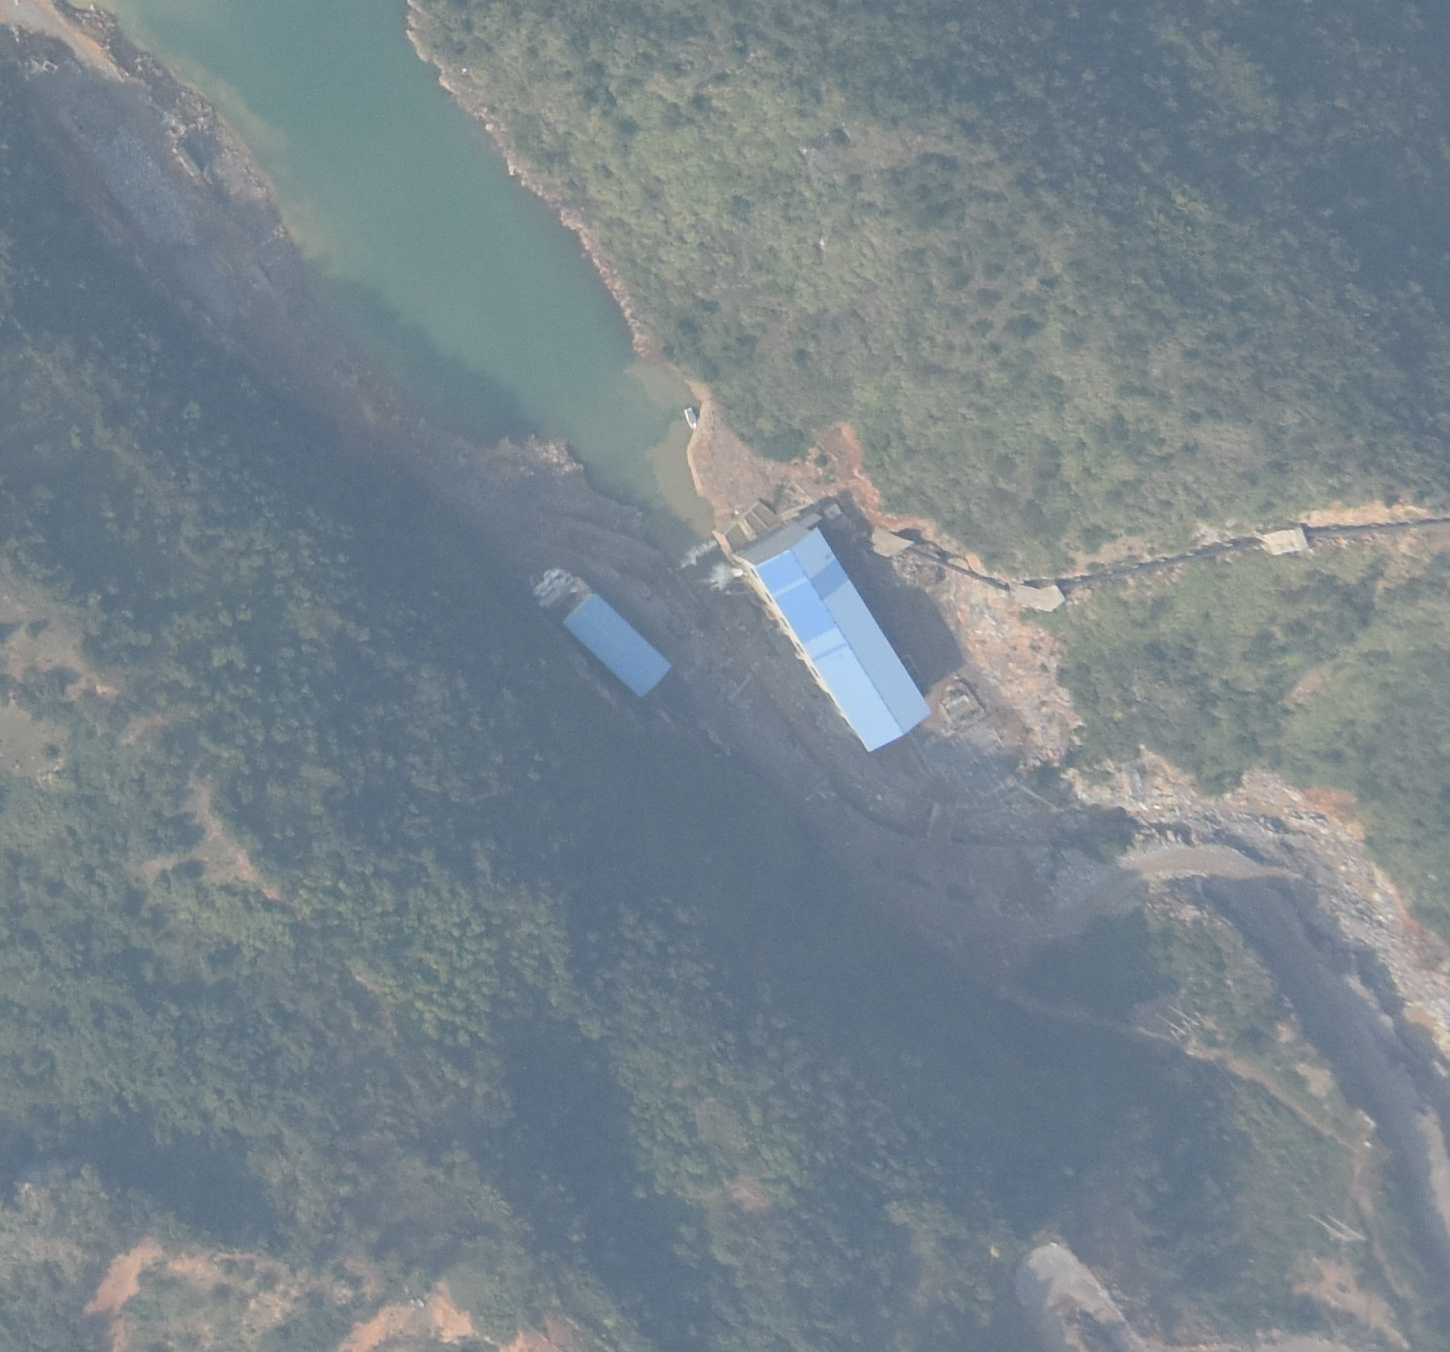prefabricated-house: (737, 497, 970, 761), (535, 569, 682, 718)
